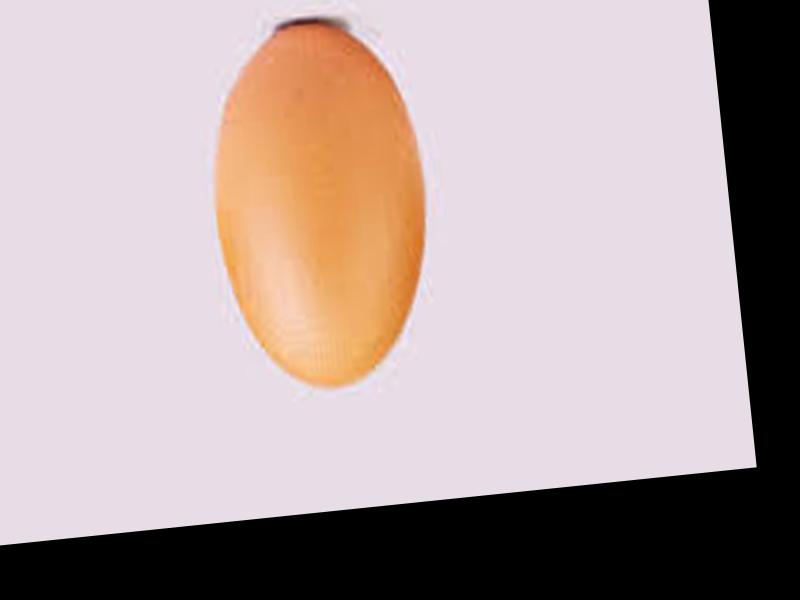Eggs: (200, 10, 442, 403)
